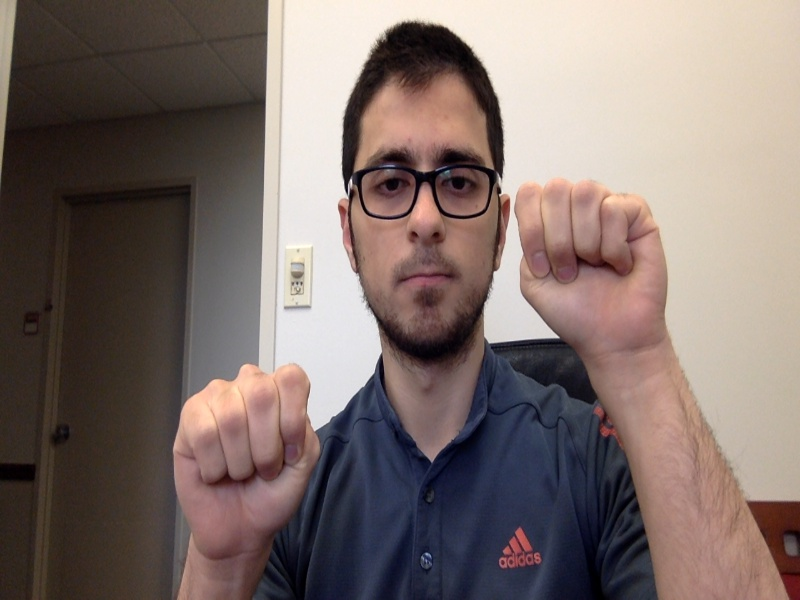0-hand: (515, 181, 668, 356), (174, 364, 318, 549)
